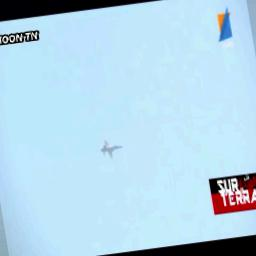Airplane: (99, 139, 125, 159)
